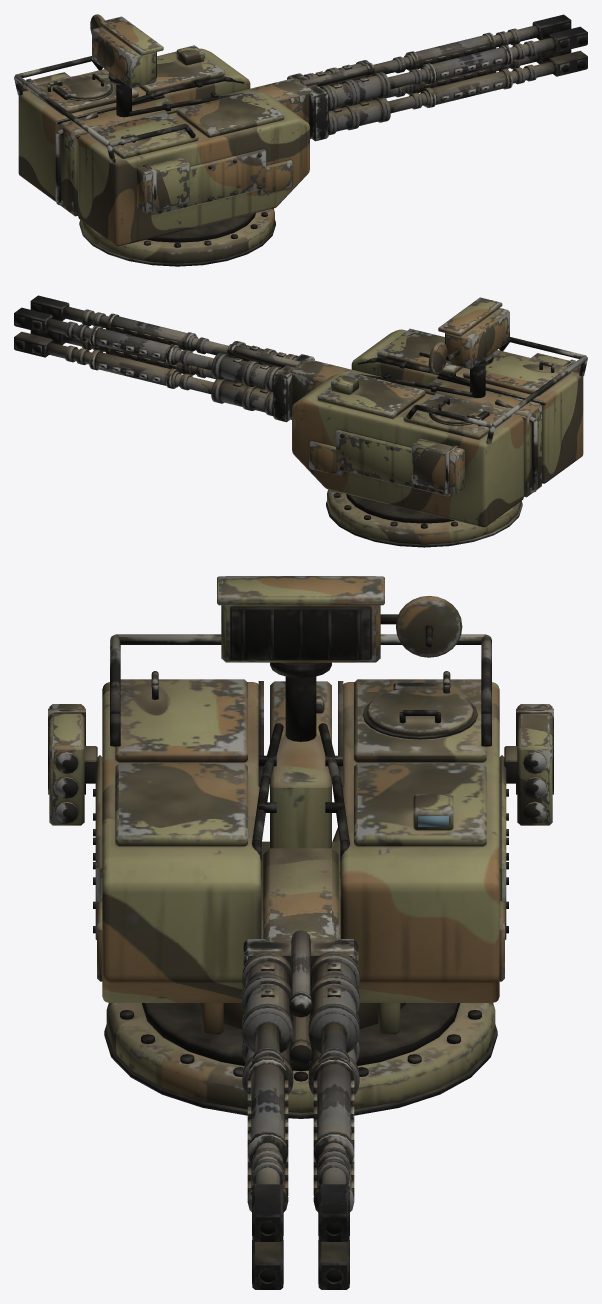
The model's file is turret_kit_quad_steppe.glb.
3 renders of one model, top to bottom at view 1: azimuth 30°, elevation 25°; view 2: azimuth 150°, elevation 25°; view 3: azimuth 270°, elevation 25°, orthographic. The views are drawn at different scales.
Visible parts, largest first — view 1: turret_twin_quad, guns, pods; view 2: turret_twin_quad, guns, pods; view 3: turret_twin_quad, guns, pods.
Boxes of the visible parts, bbox=[...] form: turret_twin_quad: bbox=[14, 14, 309, 266]; guns: bbox=[220, 14, 587, 141]; pods: bbox=[20, 72, 190, 213]; turret_twin_quad: bbox=[292, 297, 587, 547]; guns: bbox=[14, 295, 382, 422]; pods: bbox=[411, 353, 581, 494]; turret_twin_quad: bbox=[93, 576, 508, 1118]; guns: bbox=[242, 848, 359, 1289]; pods: bbox=[48, 704, 553, 825].
Size of the model in its own units: 2.7 by 1.01 by 1.15.
Materials: 4 (3 with a texture image).
